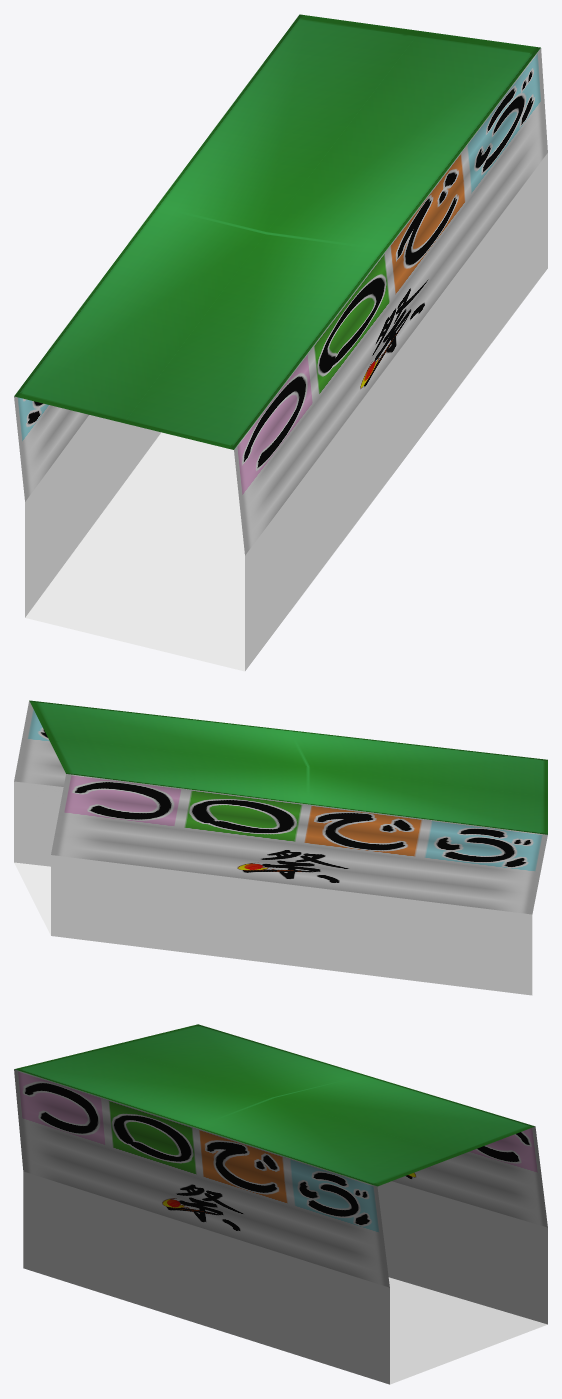
The model's file is CourseWinter_Wall_L_17_5.fbx.
3 views of the same model, one above another, from view 1: azimuth 30°, elevation 25°; view 2: azimuth 150°, elevation 25°; view 3: azimuth 270°, elevation 25° (orthographic). The views are drawn at different scales.
Parts seen in each view (by area): view 1: polySurface605; view 2: polySurface605; view 3: polySurface605.
Part boxes in pixels (x1,y1,x2,y2): polySurface605: [14, 14, 547, 671]; polySurface605: [14, 700, 547, 995]; polySurface605: [14, 1024, 547, 1384].
Size of the model in its own units: 5.87 by 2.98 by 4.99.
Materials: 1 (1 with a texture image).
